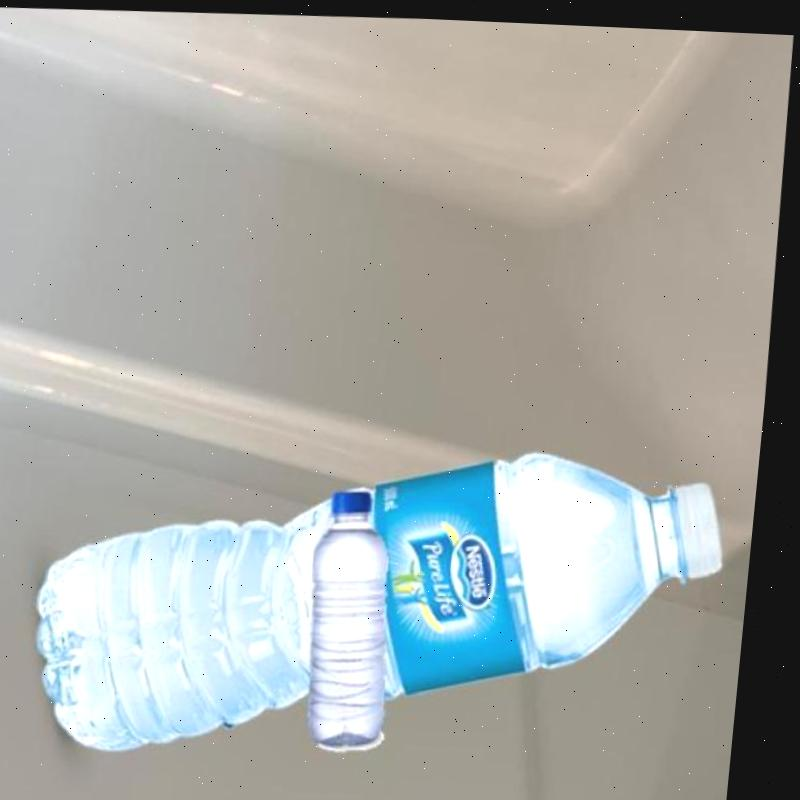botella: (36, 423, 744, 770), (305, 481, 417, 745)
